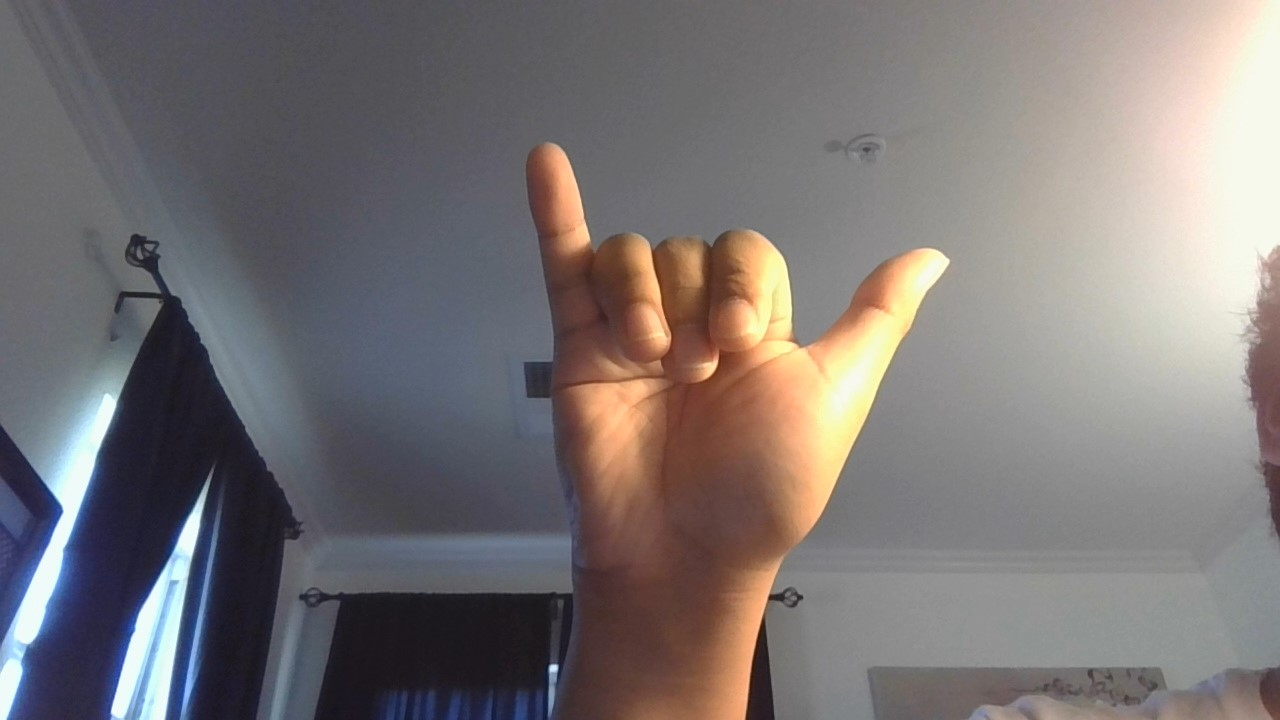y: (512, 124, 971, 592)
